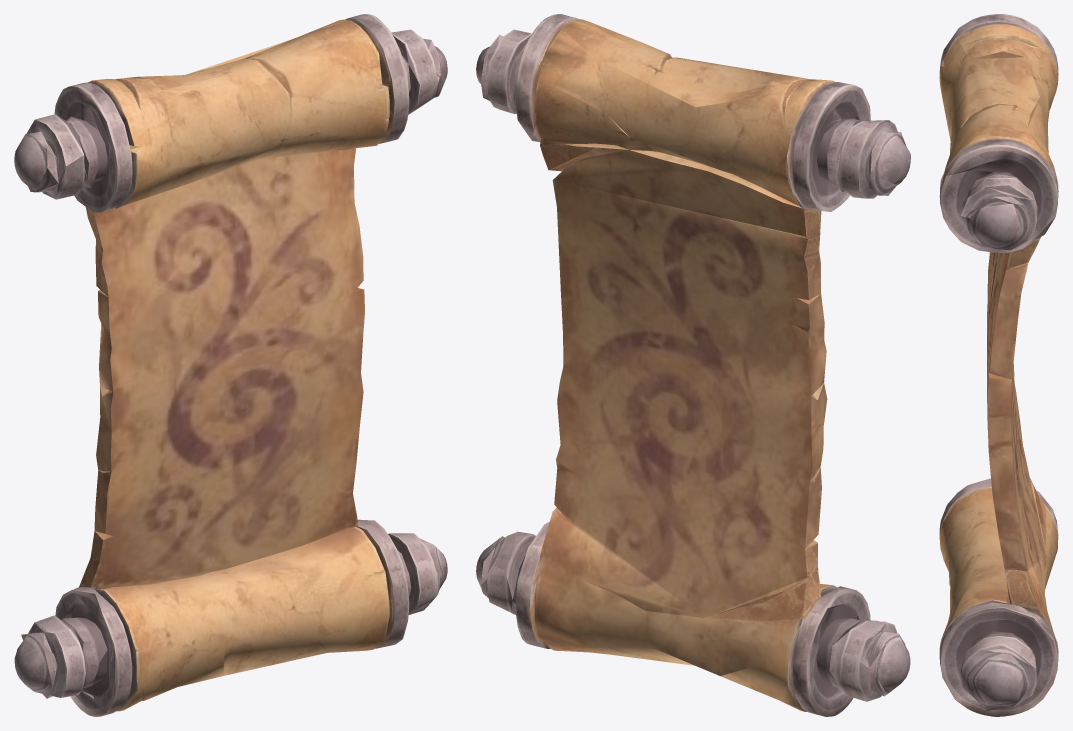
Rendered from scroll.glb.
3 views of the same model, side by side, from view 1: azimuth 30°, elevation 25°; view 2: azimuth 150°, elevation 25°; view 3: azimuth 270°, elevation 25° (orthographic). The views are drawn at different scales.
Parts seen in each view (by area): view 1: Mesh_0; view 2: Mesh_0; view 3: Mesh_0.
Boxes of the visible parts, <box> form: Mesh_0: <box>14,14,447,716</box>; Mesh_0: <box>476,14,910,716</box>; Mesh_0: <box>939,14,1058,716</box>.
Size of the model in its own units: 1.36 by 1.9 by 0.3592.
1 material, 1 textured.
